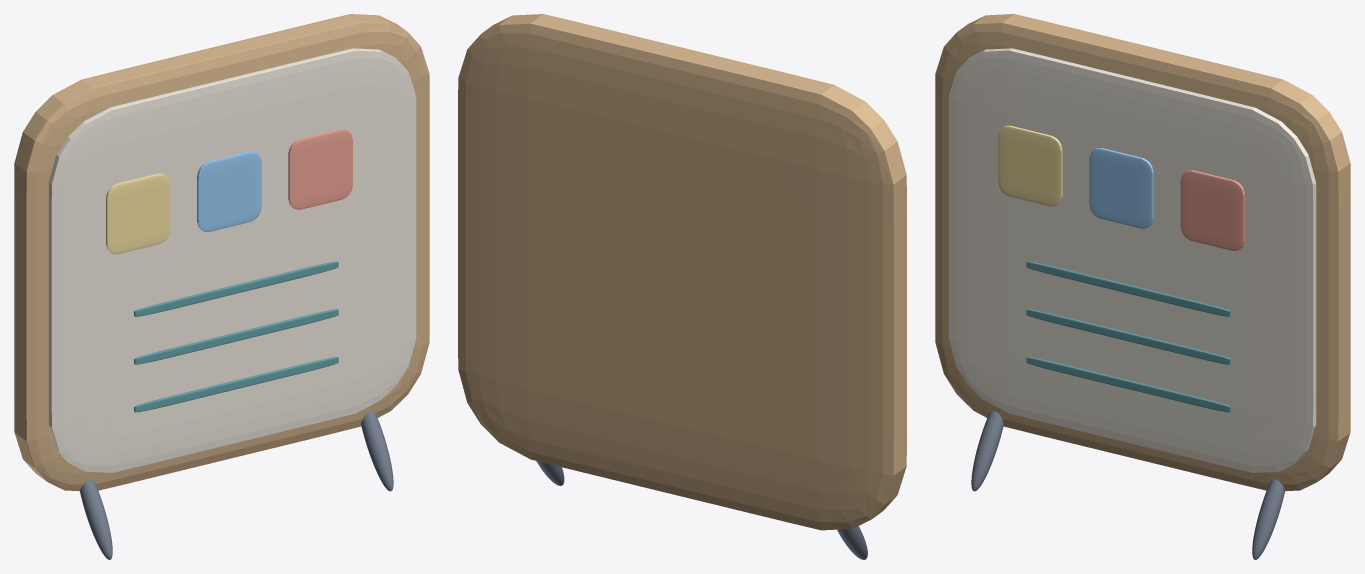
File: task-board.glb
The picture shows the model from 3 angles, left to right: view 1: azimuth 30°, elevation 25°; view 2: azimuth 150°, elevation 25°; view 3: azimuth 330°, elevation 25°; orthographic projection. The views are drawn at different scales.
Parts seen in each view (by area): view 1: surface, frame, sticky0, sticky1, sticky2, line0, line1, line2, leg-0.4, leg0.4; view 2: frame, leg-0.4; view 3: surface, frame, sticky0, sticky1, sticky2, line0, line1, line2, leg0.4, leg-0.4.
Part boxes in pixels (x1,y1,x2,y2): surface: [48, 48, 416, 472]; frame: [14, 14, 429, 491]; sticky0: [106, 173, 170, 254]; sticky1: [197, 151, 261, 231]; sticky2: [288, 129, 352, 209]; line0: [134, 261, 338, 316]; line1: [134, 309, 338, 364]; line2: [134, 357, 338, 412]; leg-0.4: [80, 479, 112, 559]; leg0.4: [361, 411, 393, 491]; frame: [458, 14, 906, 530]; leg-0.4: [837, 526, 867, 559]; surface: [948, 48, 1316, 472]; frame: [935, 14, 1350, 491]; sticky0: [998, 125, 1062, 206]; sticky1: [1089, 148, 1153, 228]; sticky2: [1180, 170, 1244, 250]; line0: [1026, 261, 1230, 316]; line1: [1026, 309, 1230, 364]; line2: [1026, 357, 1230, 412]; leg0.4: [1252, 479, 1284, 559]; leg-0.4: [971, 411, 1003, 491].
Bounding box in the file's own units: 1.15 × 1.24 × 0.1887.
